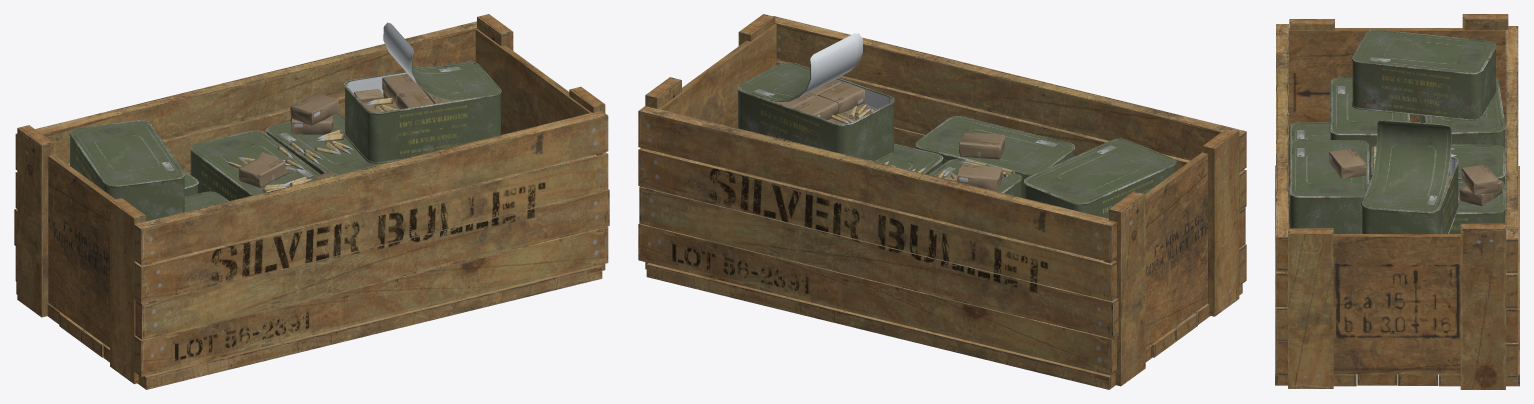
Rendered from VV_SilverBullets.fbx.
3 renders of one model, left to right at view 1: azimuth 30°, elevation 25°; view 2: azimuth 150°, elevation 25°; view 3: azimuth 270°, elevation 25°, orthographic. The views are drawn at different scales.
Parts seen in each view (by area): view 1: VV_SilverBullets; view 2: VV_SilverBullets; view 3: VV_SilverBullets.
Part boxes in pixels (x1=…): VV_SilverBullets: x1=14, y1=14, x2=609, y2=389; VV_SilverBullets: x1=638, y1=14, x2=1246, y2=389; VV_SilverBullets: x1=1275, y1=14, x2=1519, y2=389.
Size of the model in its own units: 224 by 99.93 by 108.
1 material, 1 textured.
